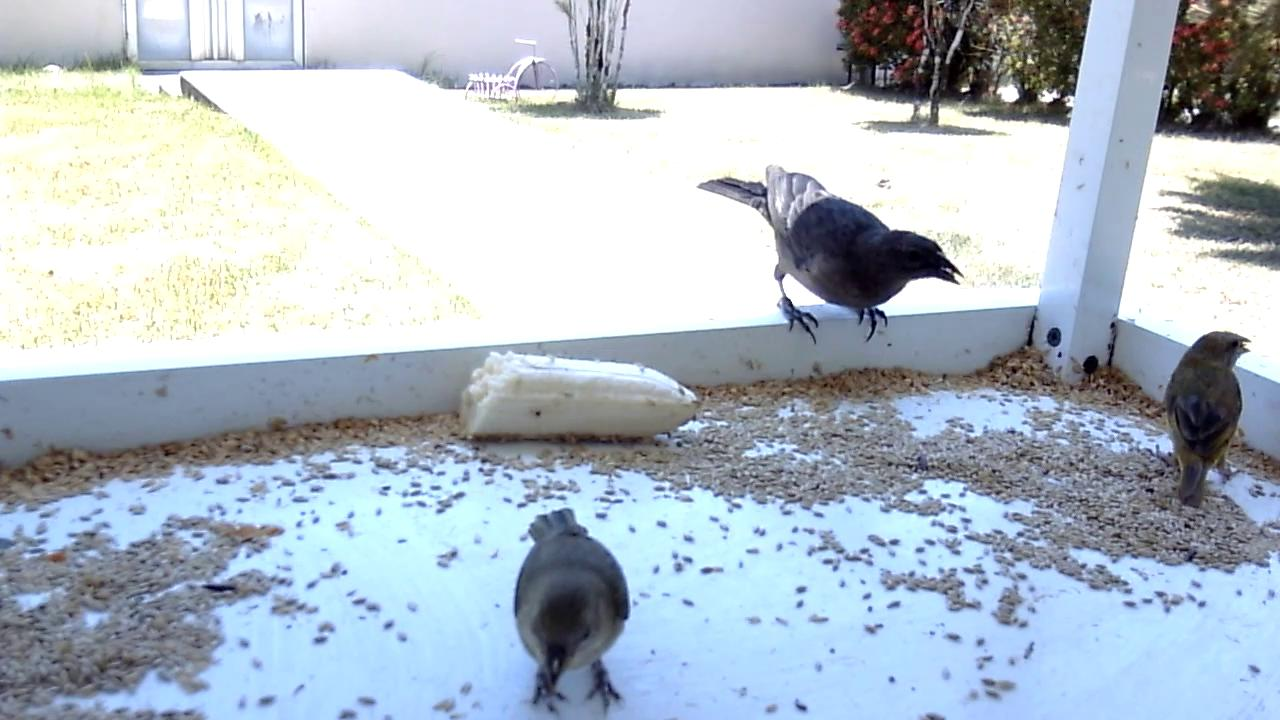canario_do_amazonas: (511, 506, 635, 720), (1163, 329, 1255, 513)
chupim: (690, 161, 970, 351)
